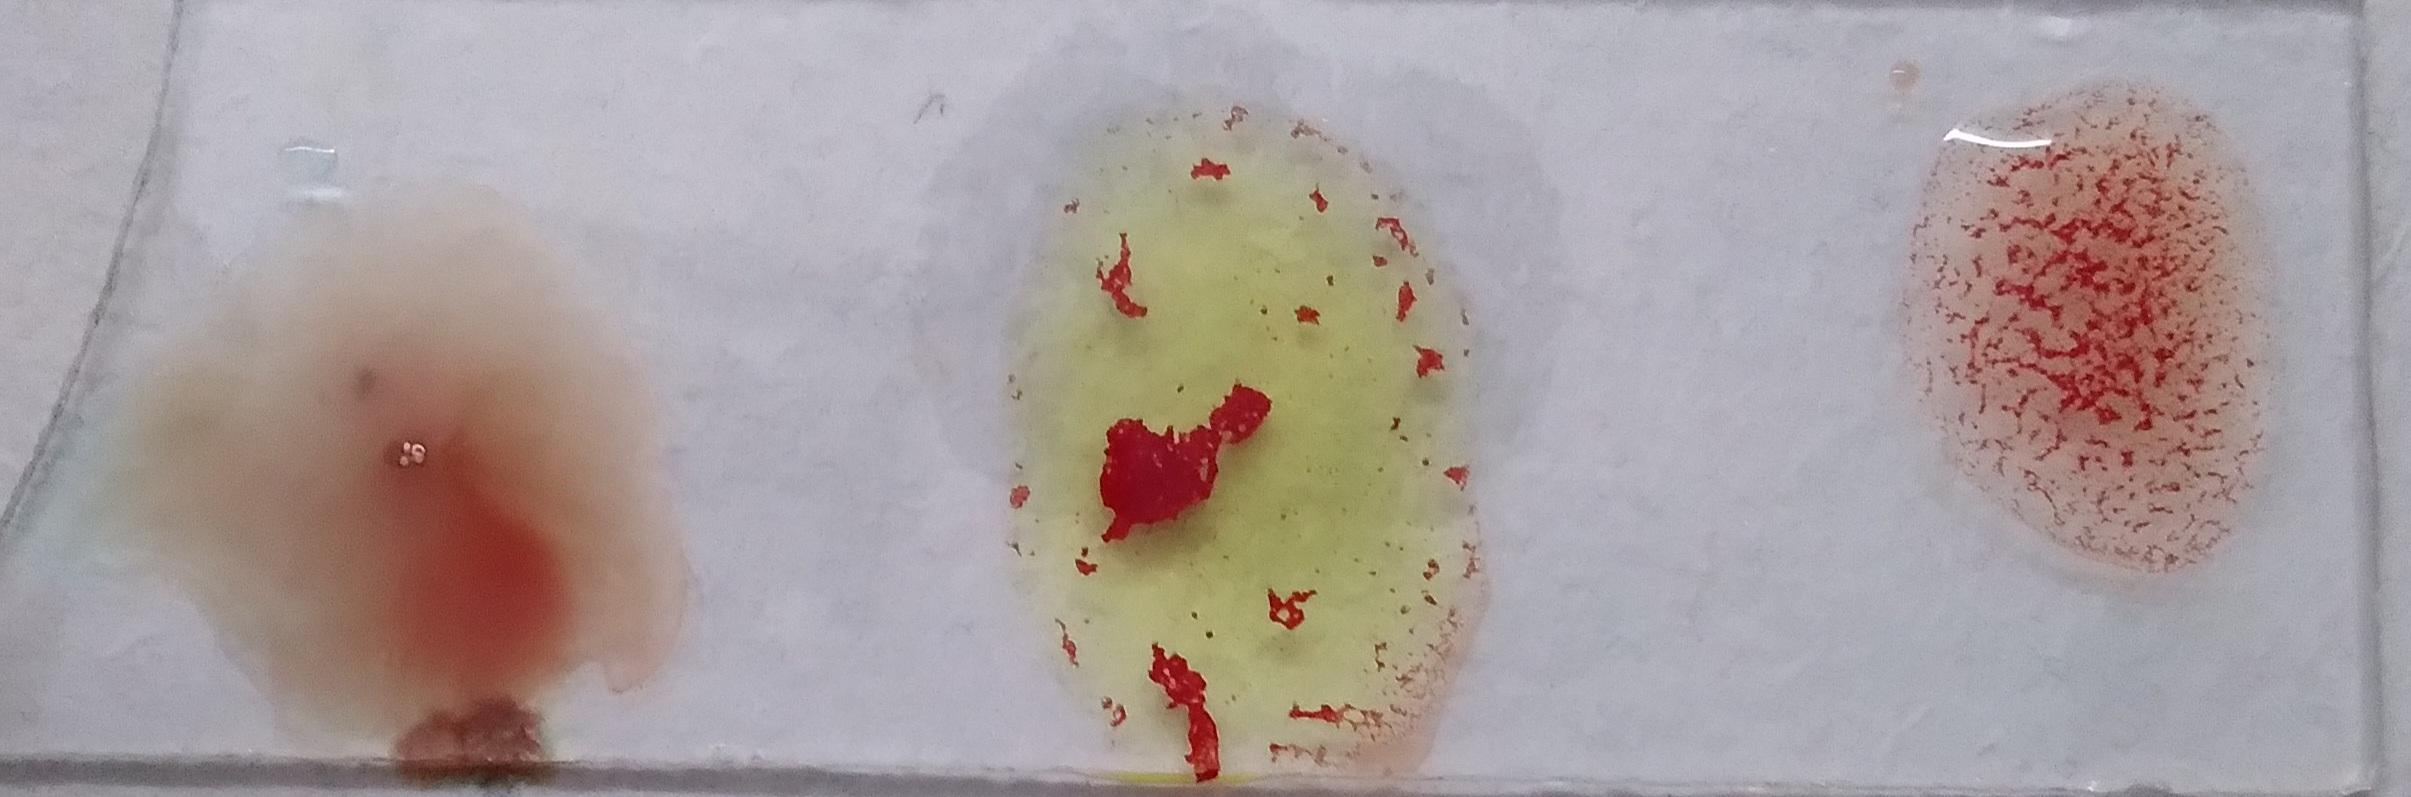B: (958, 23, 1395, 697)
D: (145, 228, 491, 729)
